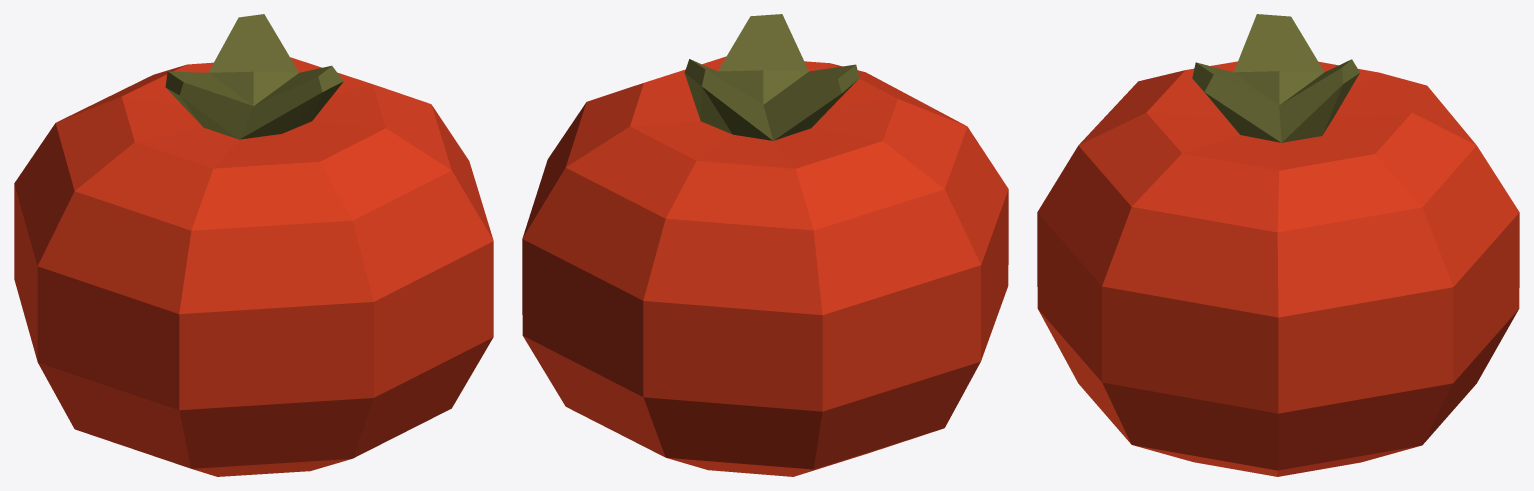
The model's file is SM_Prop_Food_Tomato_Whole_01.glb.
3 renders of one model, left to right at view 1: azimuth 30°, elevation 25°; view 2: azimuth 150°, elevation 25°; view 3: azimuth 270°, elevation 25°, orthographic.
Visible parts, largest first — view 1: SM_Prop_Food_Tomato_Whole_01; view 2: SM_Prop_Food_Tomato_Whole_01; view 3: SM_Prop_Food_Tomato_Whole_01.
Part boxes in pixels (box(x1,y1,x2,y2)): SM_Prop_Food_Tomato_Whole_01: box(14, 14, 493, 476); SM_Prop_Food_Tomato_Whole_01: box(522, 14, 1008, 476); SM_Prop_Food_Tomato_Whole_01: box(1037, 14, 1519, 476).
Bounding box in the file's own units: 0.145 × 0.1221 × 0.1403.
Materials: 1 (1 with a texture image).
